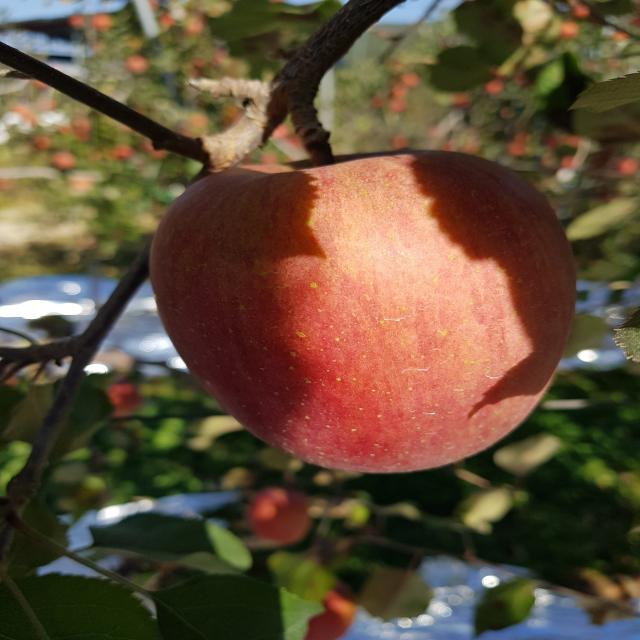fresh: (141, 141, 581, 486)
